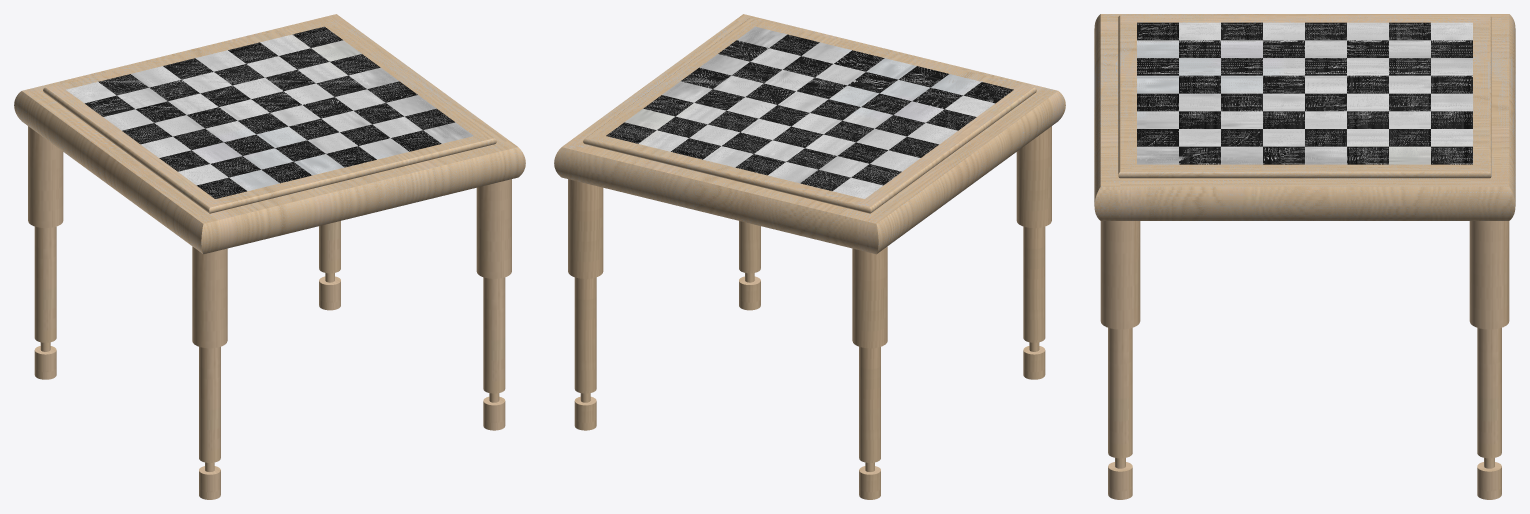
Rendered from chesstable1.dae.
3 renders of one model, left to right at view 1: azimuth 30°, elevation 25°; view 2: azimuth 150°, elevation 25°; view 3: azimuth 270°, elevation 25°, orthographic. The views are drawn at different scales.
Parts seen in each view (by area): view 1: group_0 (×66), leg (×11); view 2: group_0 (×66), leg (×11); view 3: group_0 (×66), leg (×6).
Boxes of the visible parts, x1,y1,x2,y2 form: group_0 (×66): [14, 14, 525, 254]; leg (×11): [28, 126, 511, 499]; group_0 (×66): [554, 14, 1065, 254]; leg (×11): [568, 126, 1051, 499]; group_0 (×66): [1094, 14, 1515, 220]; leg (×6): [1100, 221, 1509, 499].
Bounding box in the file's own units: 140 × 140 × 119.
